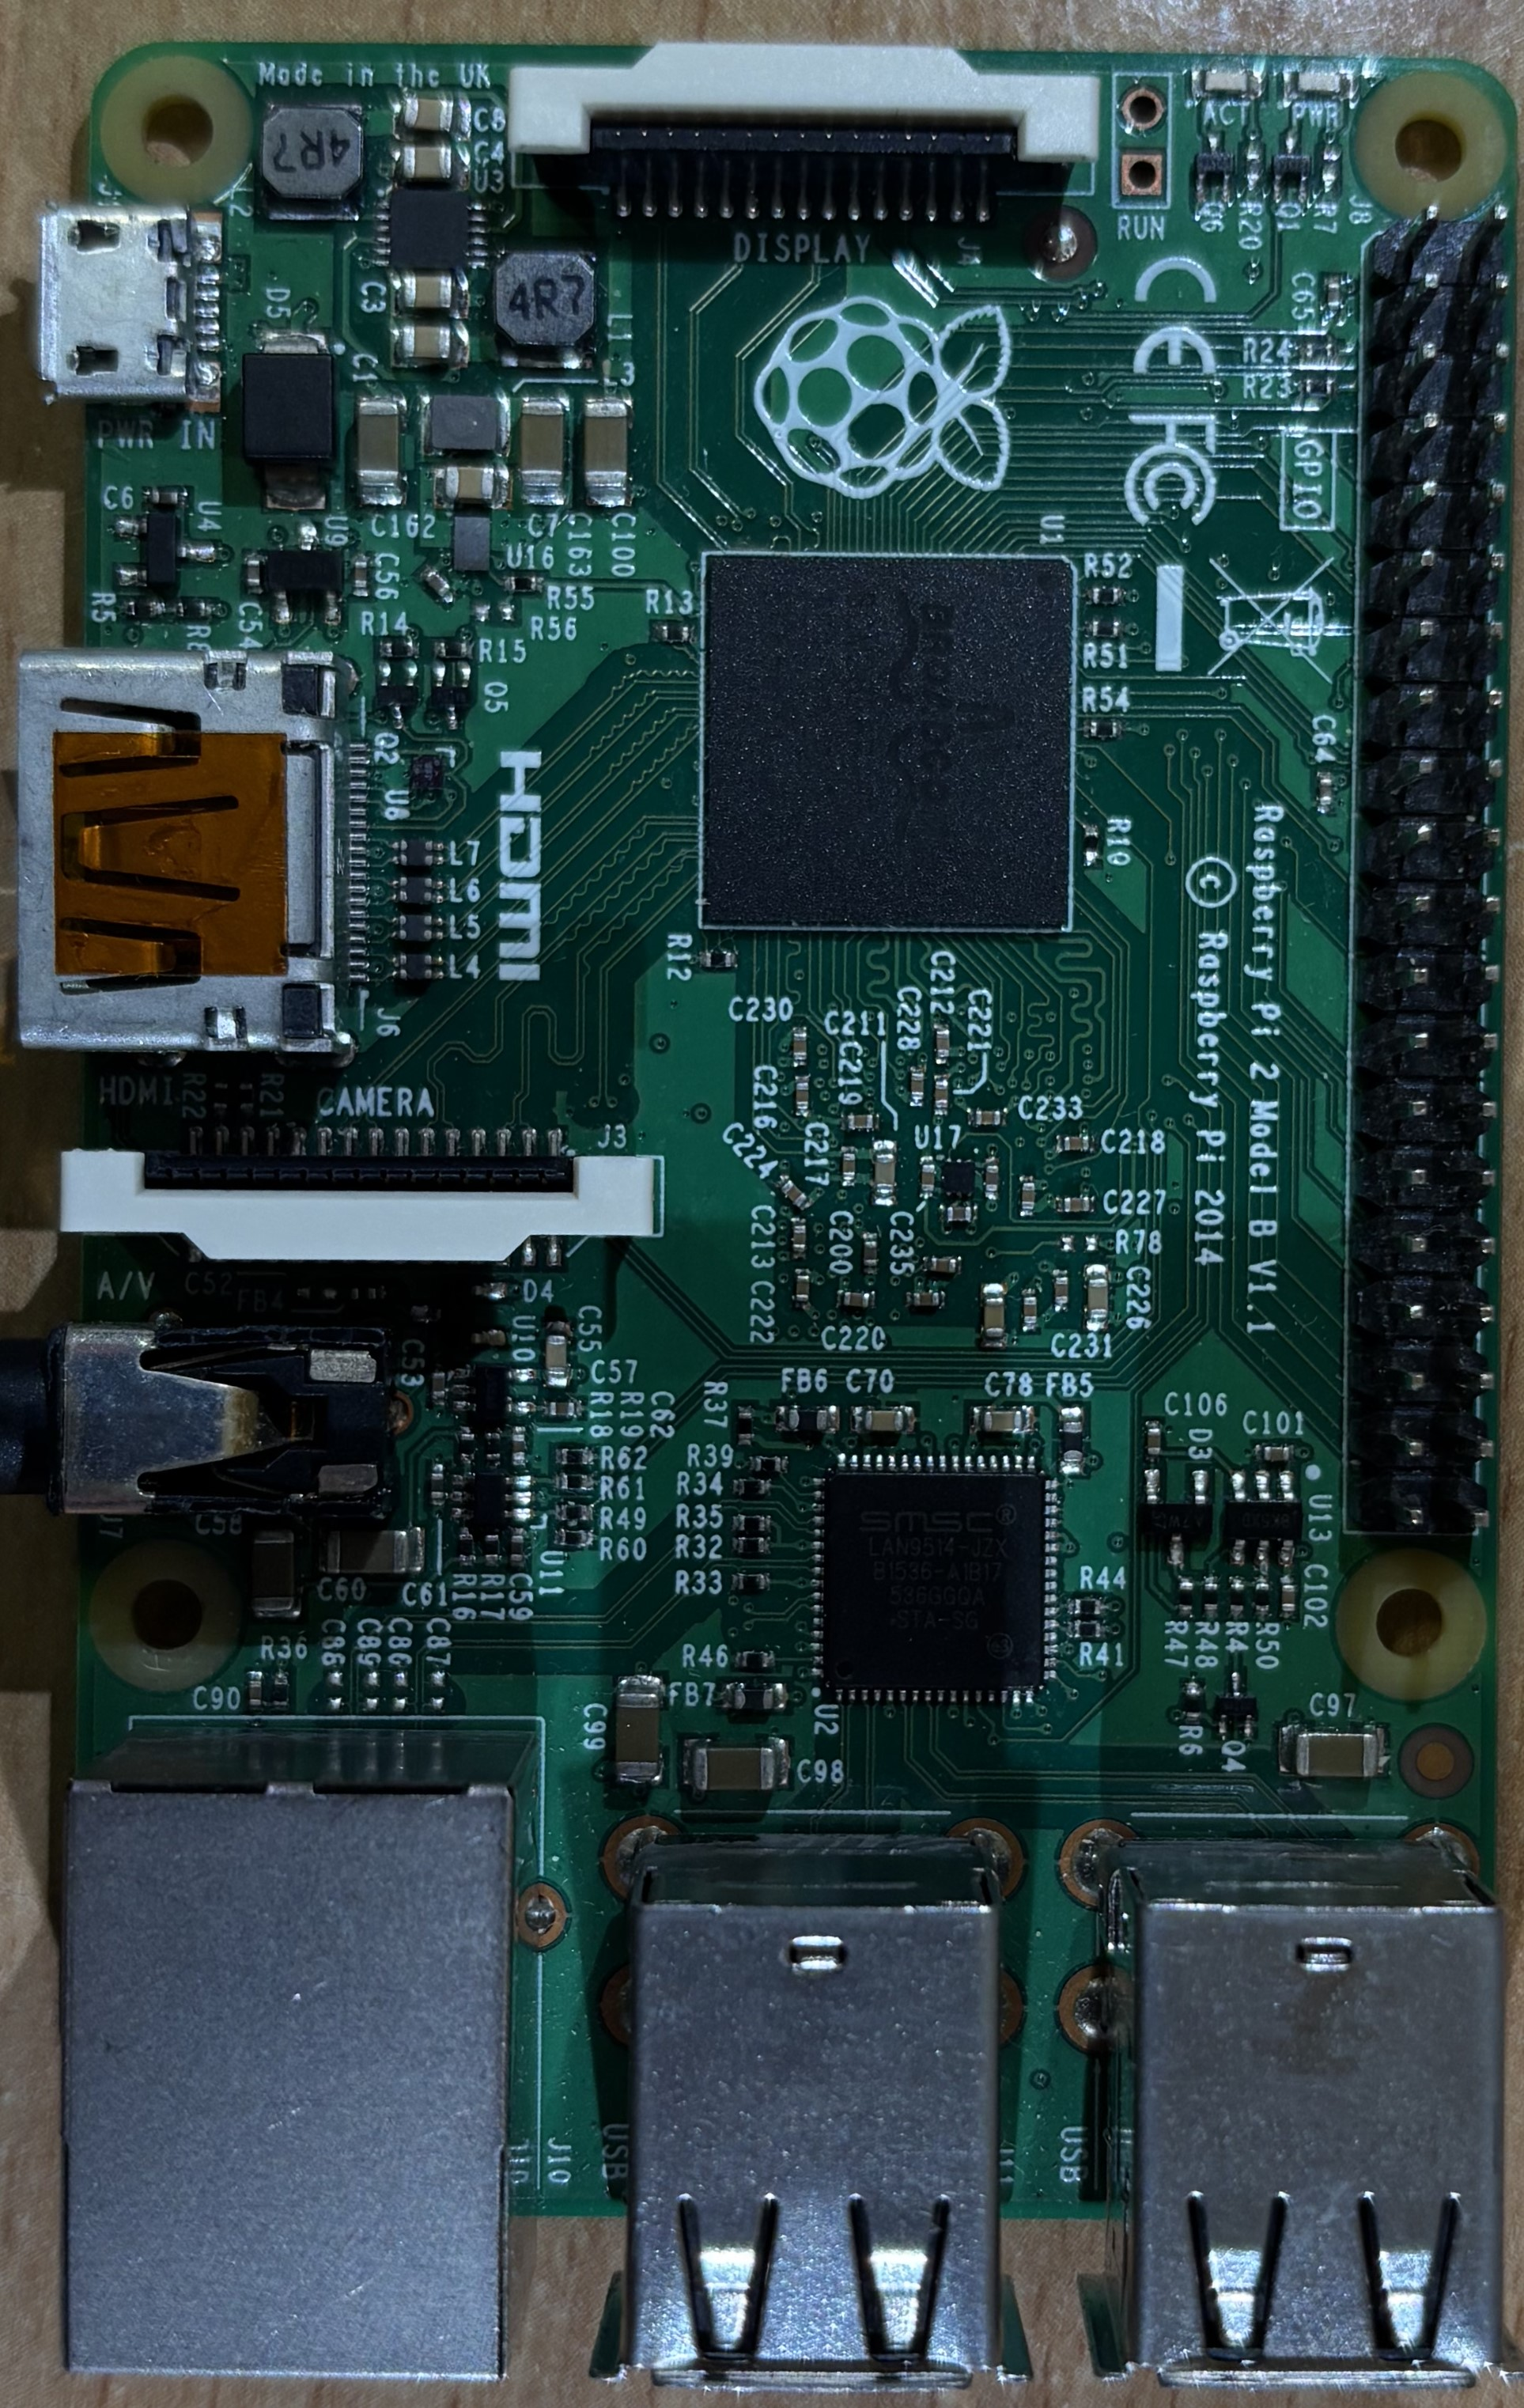Induktor: (261, 102, 367, 214), (493, 249, 596, 349), (423, 395, 503, 456), (389, 837, 444, 867), (393, 953, 444, 979), (393, 914, 444, 941), (391, 876, 442, 902)
